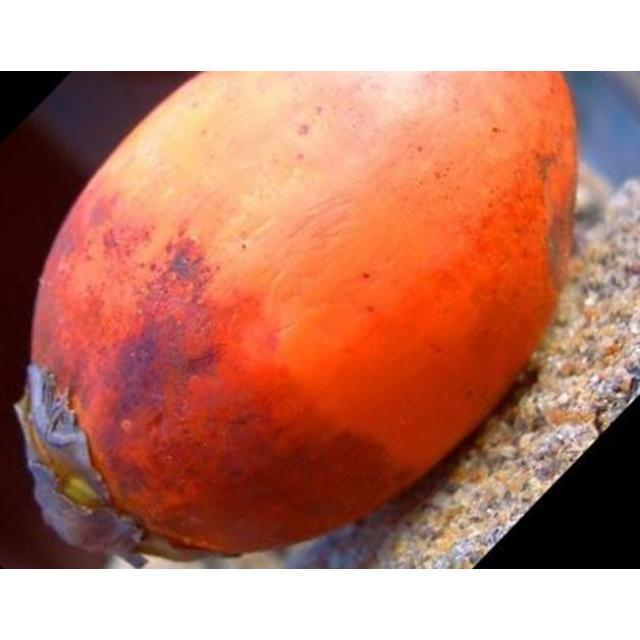good: (13, 71, 579, 568)
